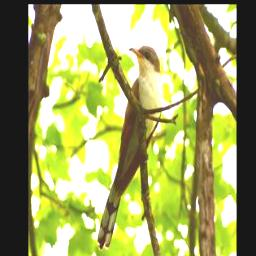Cuckoo: (96, 44, 163, 252)
